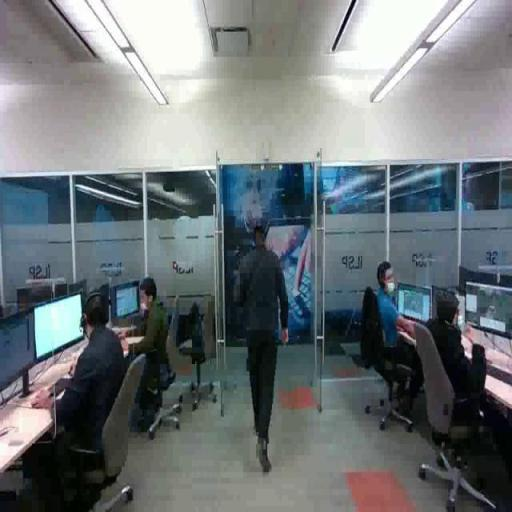person: (26, 293, 136, 512), (235, 220, 291, 476), (416, 289, 510, 439), (118, 276, 187, 436), (366, 259, 429, 414)
